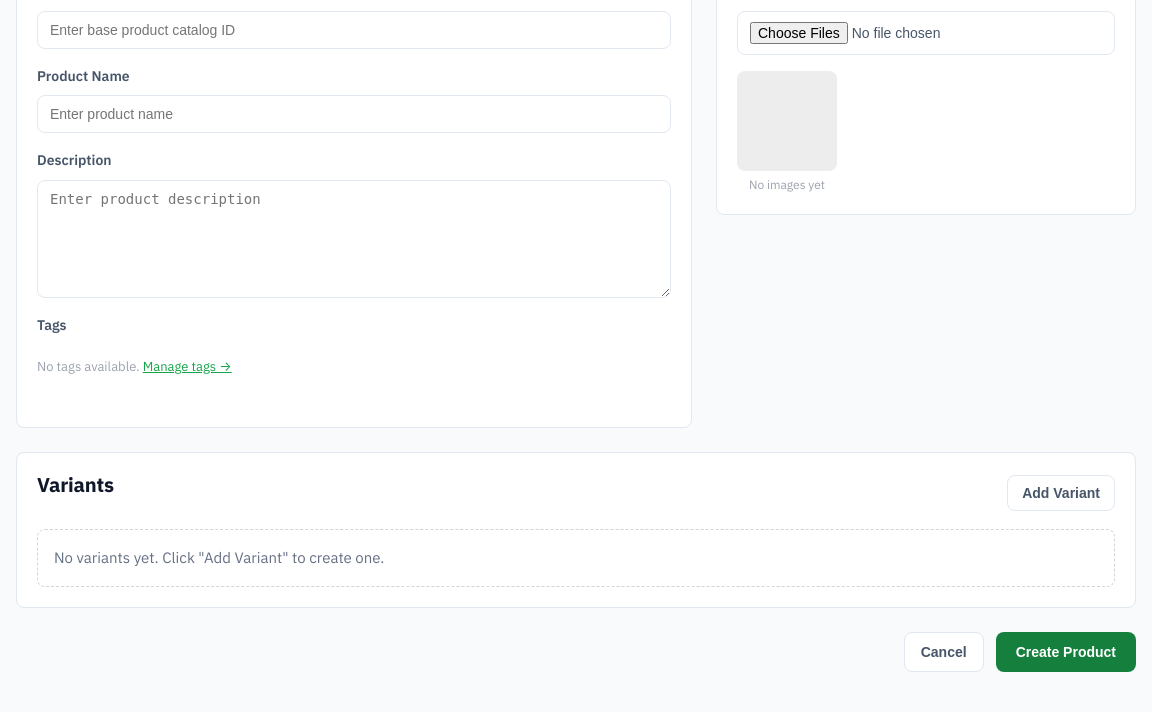
Scenario: AdminProductDetailPage › form validation — create mode › shows inline error for cat_id when submitted empty
(page scrolled)
Click the button "Create Product" at (1066, 652), box [996,632,1136,672]
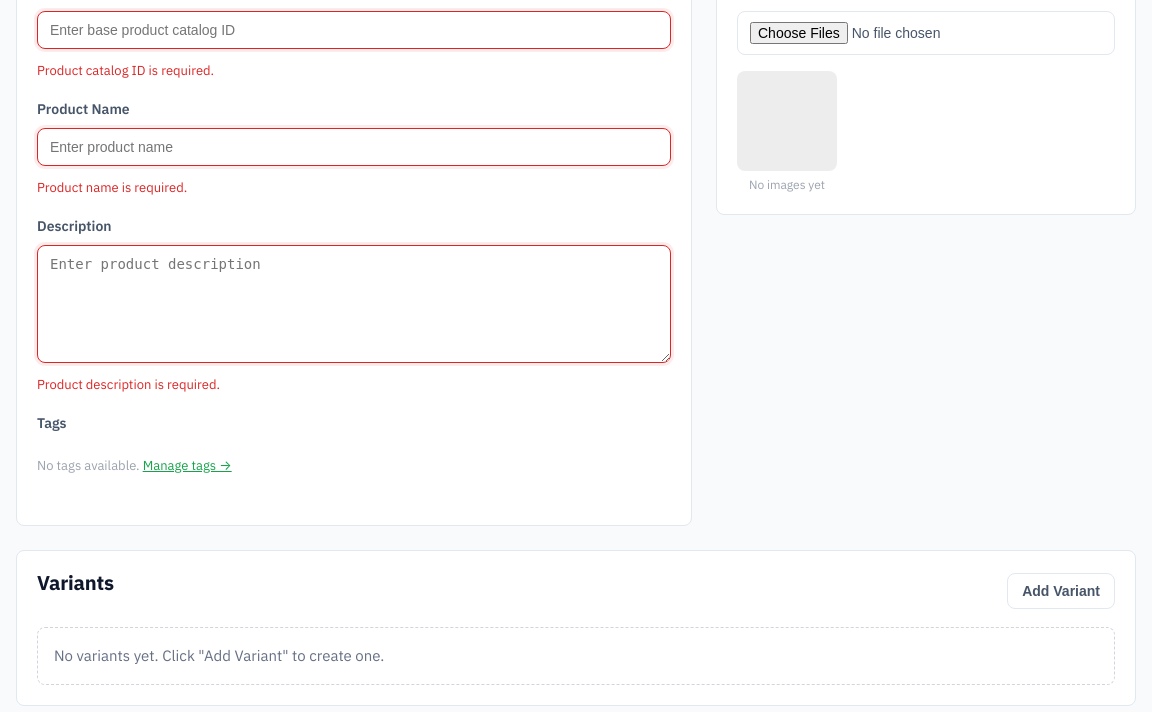
Check: the text "Product catalog ID is required." is shown, box [37,62,214,79]
